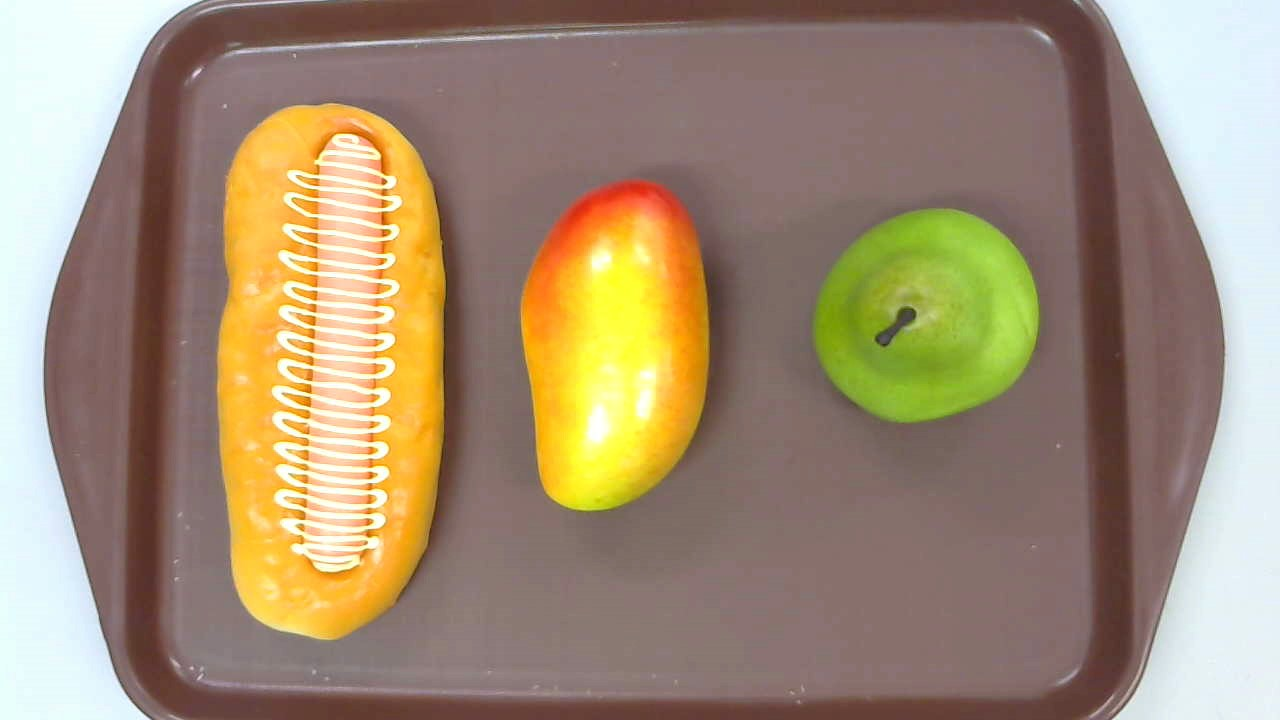green pear: (811, 208, 1038, 424)
hot dog: (216, 103, 446, 641)
red mango: (520, 179, 710, 513)
